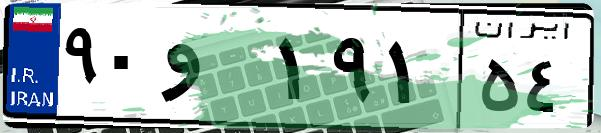0: (110, 28, 158, 98)
1: (270, 28, 330, 110), (385, 28, 445, 110)
4: (525, 38, 570, 115)
5: (475, 38, 525, 113)
9: (330, 28, 385, 110), (57, 26, 110, 100)
و: (158, 20, 270, 120)
